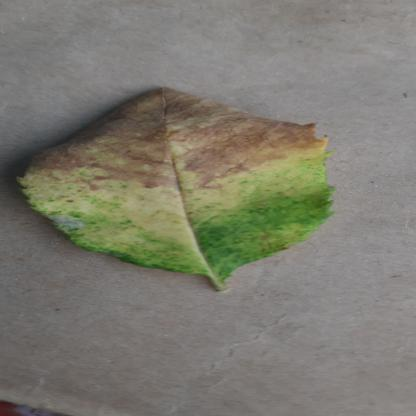black-spot: (5, 85, 352, 275)
